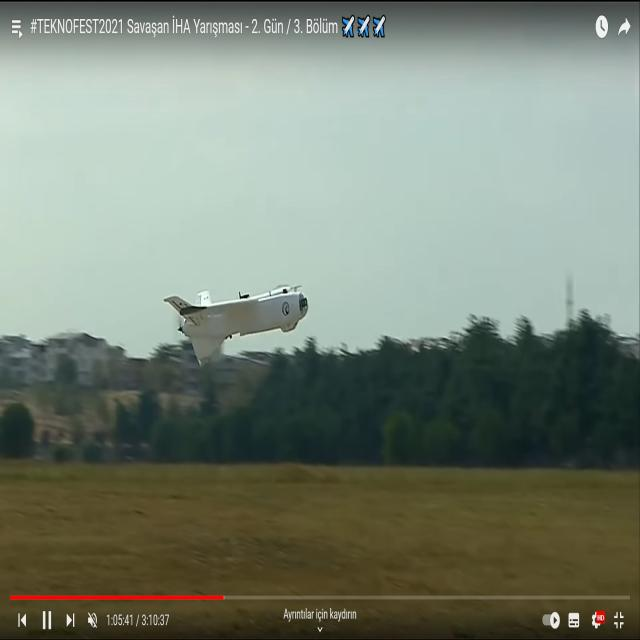iha: (163, 313, 310, 332)
